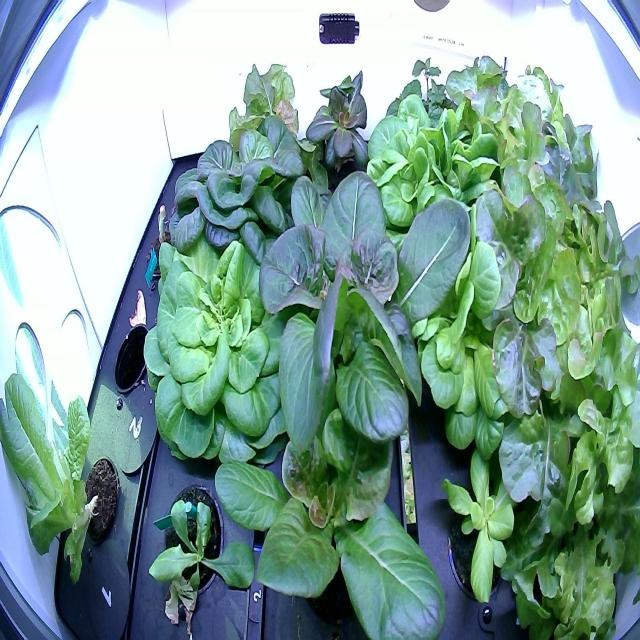Ready: (347, 74, 525, 310)
empty_pod: (105, 310, 158, 405)
young: (245, 148, 488, 462), (206, 352, 458, 639), (134, 205, 314, 480), (159, 104, 328, 292), (0, 358, 123, 588), (430, 439, 540, 625), (136, 468, 260, 632), (300, 60, 380, 190)
